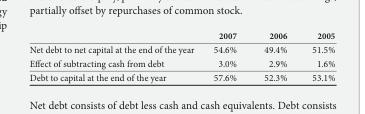table: (28, 29, 334, 83)
table column: (28, 29, 203, 83), (249, 29, 298, 83), (203, 29, 249, 83), (298, 29, 334, 83)
table column header: (28, 29, 334, 42)
table row: (28, 42, 334, 56), (28, 56, 334, 70), (28, 29, 334, 42), (28, 70, 334, 83)
